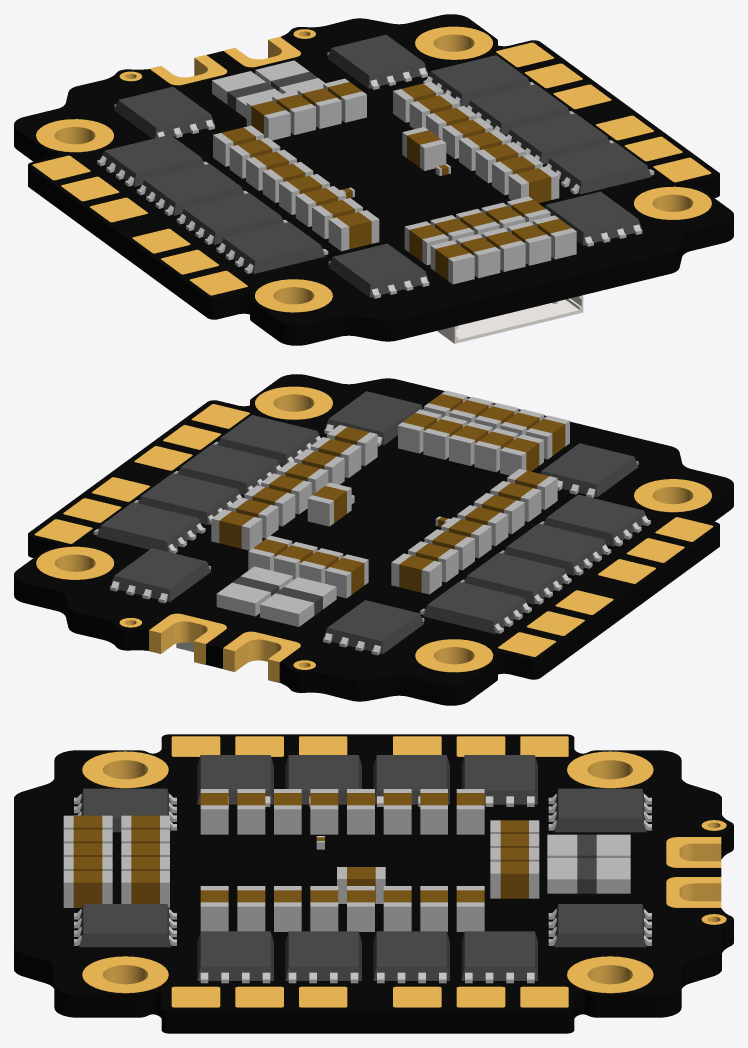
File: esc.glb
3 renders of one model, top to bottom at view 1: azimuth 30°, elevation 25°; view 2: azimuth 150°, elevation 25°; view 3: azimuth 270°, elevation 25°, orthographic. The views are drawn at different scales.
Visible parts, largest first — view 1: esc_joined; view 2: esc_joined; view 3: esc_joined.
Part boxes in pixels (box(x1,y1,x2,y2)): esc_joined: box(14, 14, 733, 345); esc_joined: box(14, 374, 733, 705); esc_joined: box(14, 734, 733, 1033).
Size of the model in its own units: 0.4118 by 0.0577 by 0.453.
